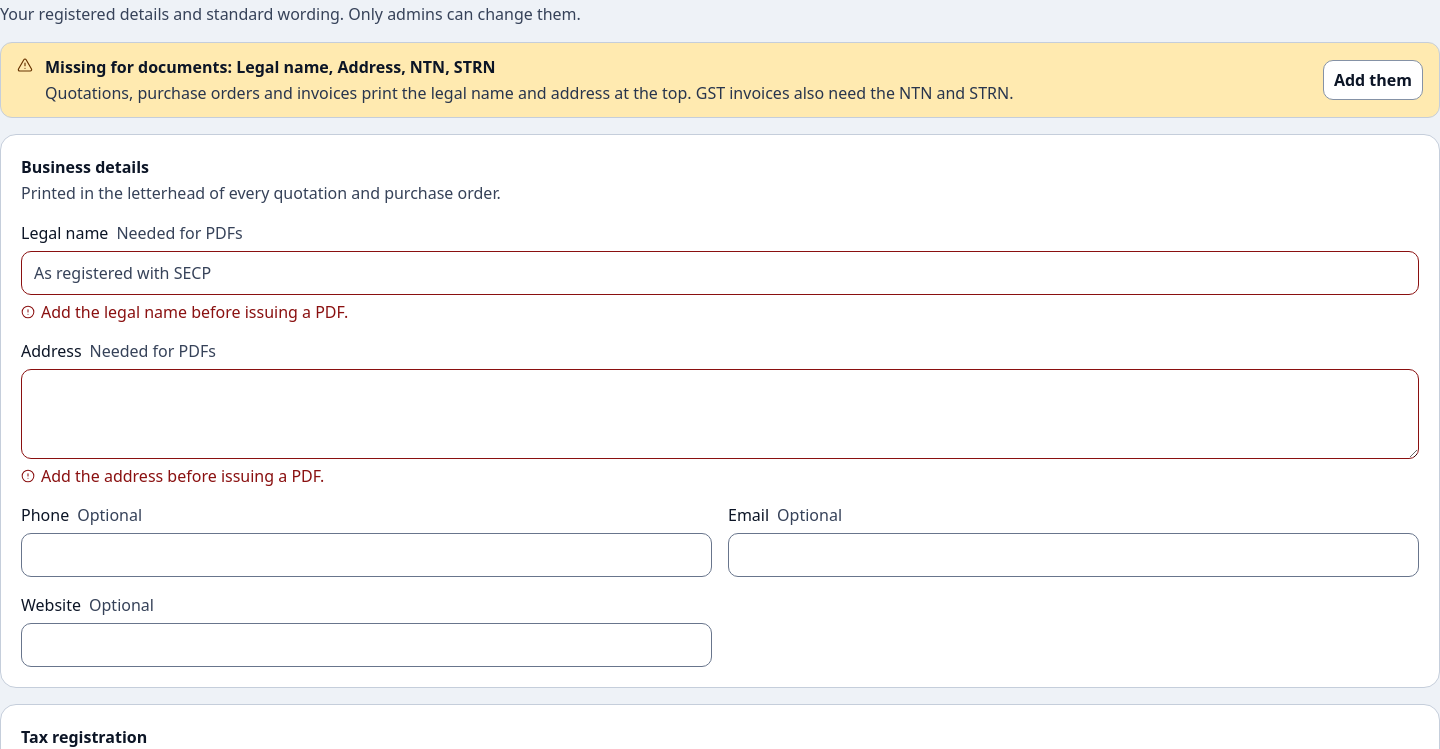
Test: Company profile screen › saves only what is filled, blank fields as null, and names the unsaved change first
The width and height of the screenshot is (1440, 749).
Expected: the text "Missing for documents: Legal name, Address, NTN, STRN" is shown, [45,56,496,78]
Type "Q-Tech Solutions" into the field labelled "Legal name". click: (720, 273)
box: [21,251,1419,295]
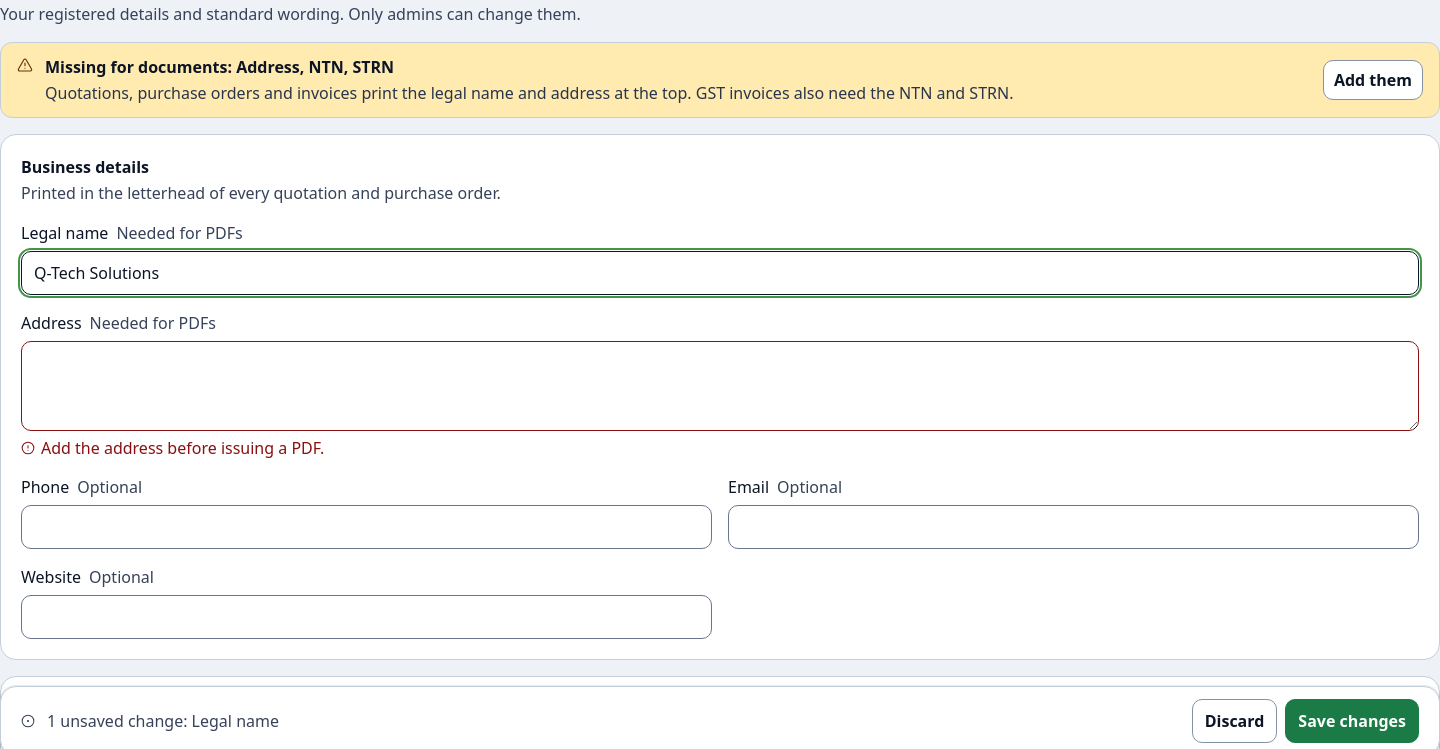
Type "Karachi" into the text box labelled "Address". click: (720, 386)
box: [21,341,1419,431]
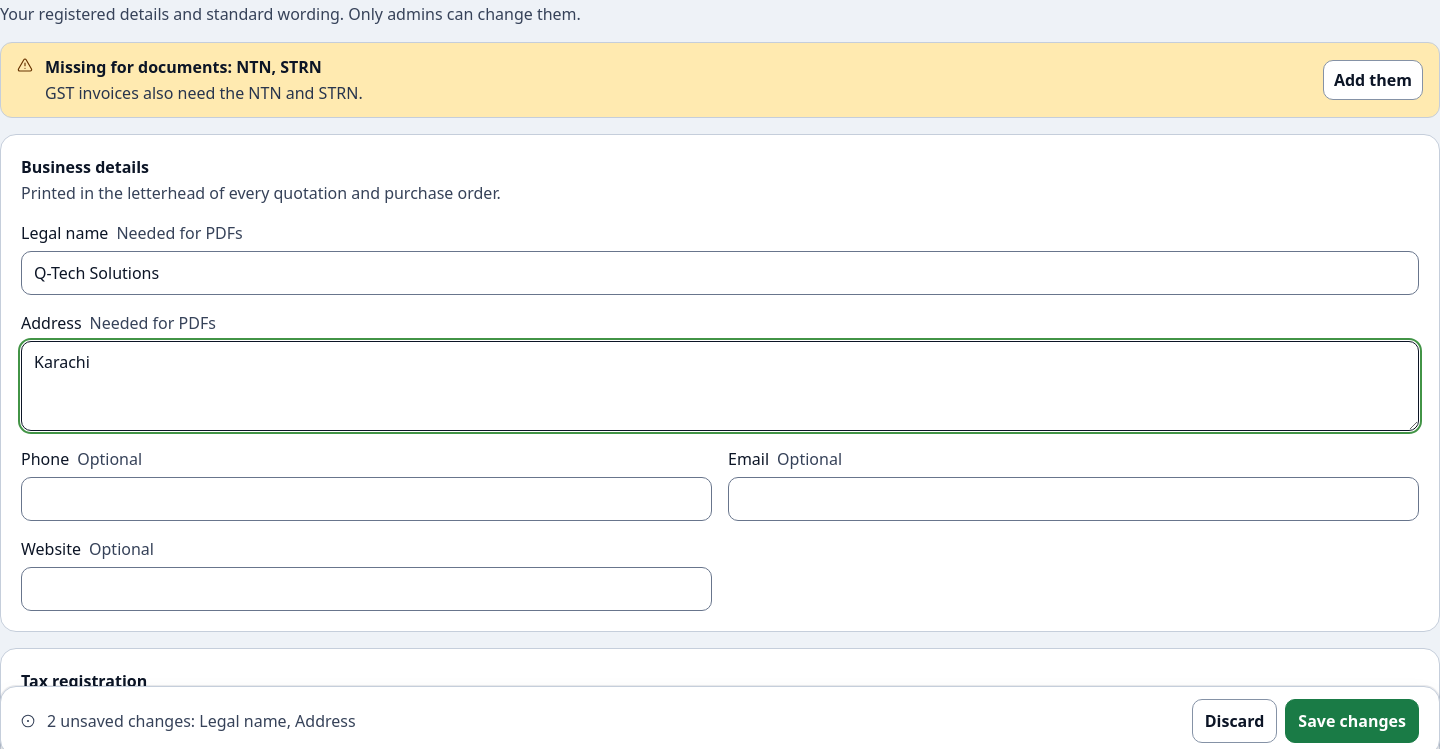
Now the text "2 unsaved changes: Legal name, Address" is shown, box [47,709,356,733]
Click the button "Save changes". click: click(1352, 721)
box: [1285,699,1419,743]
(page scrolled)
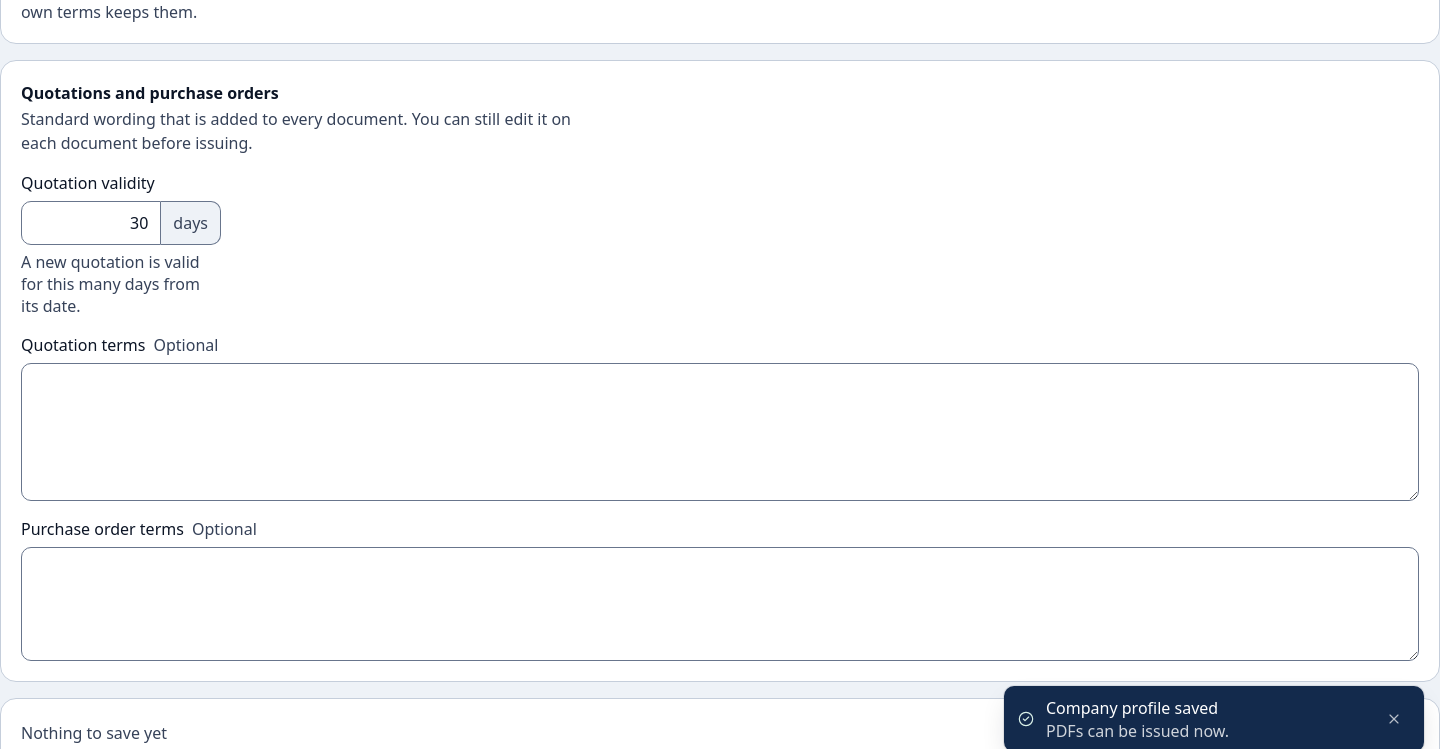
Now the text "Company profile saved" is shown, box [1046,697,1218,719]
Now the text "PDFs can be issued now." is shown, box [1046,720,1229,742]
Now the text "Nothing to save yet" is shown, box [21,721,167,745]
